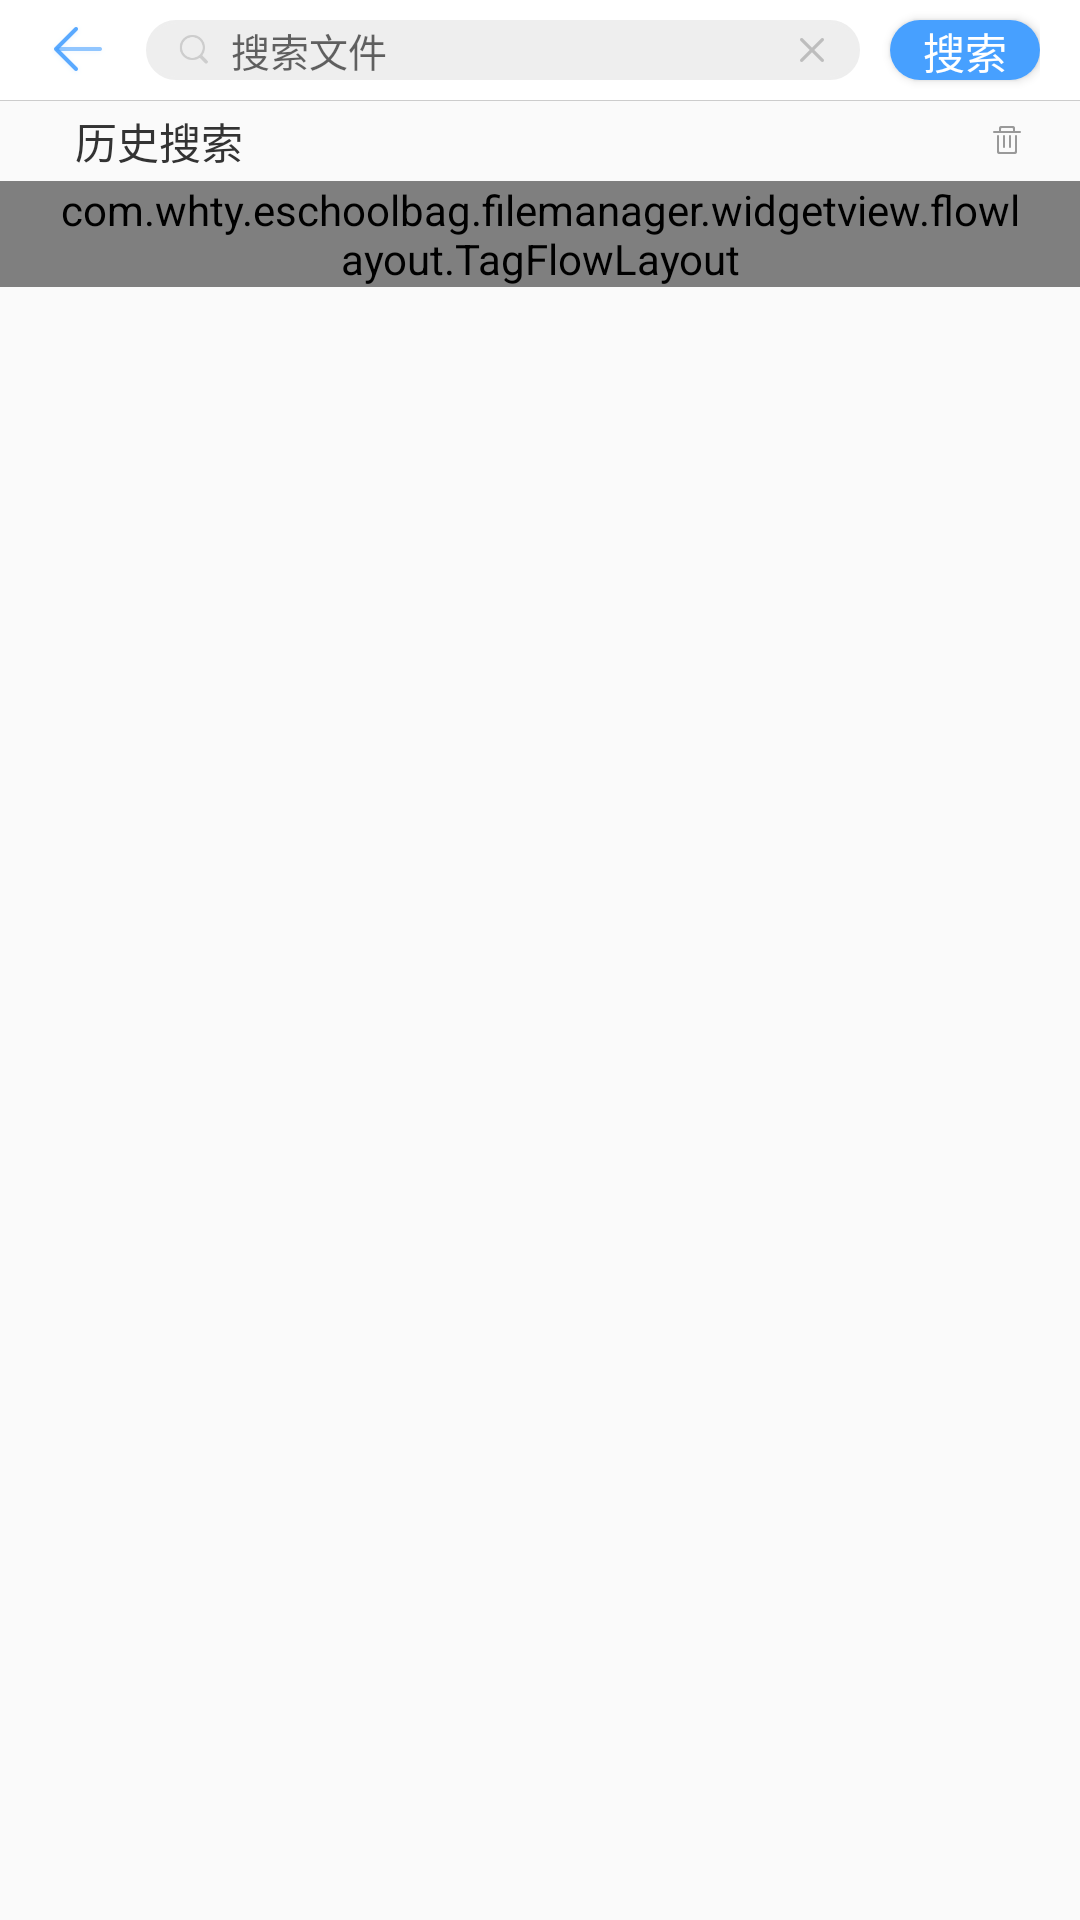

Where to tap for icons on this 1080x1920 app screen, as (x,y):
back: (78,49)
delete: (812,50), (1007,140)
